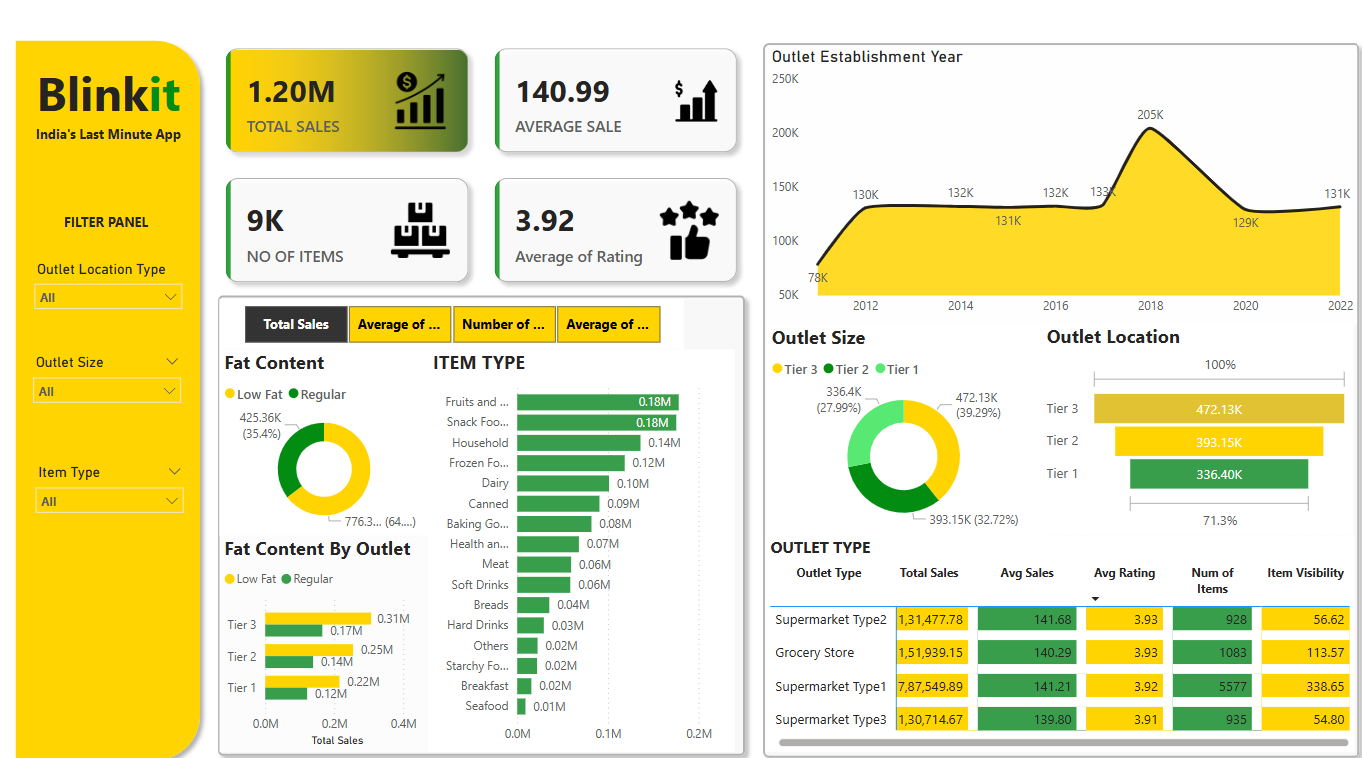

The page's visual inventory and layout, read from the dashboard file:
{"tool":"powerbi","page":{"name":"Page 1","canvas":[1400,800],"ordinal":0},"visuals":[{"type":"shape","box":[13.5,34.5,205.6,750],"z":0},{"type":"textbox","box":[31.5,58.5,171.1,88.6],"z":1000},{"type":"textbox","box":[31.5,124.6,171.1,45],"z":2000},{"type":"cardVisual","fields":{"Data":["BlinkIT Grocery Data.Total Sales","BlinkIT Grocery Data.Average of Sales","BlinkIT Grocery Data.Number of Items","BlinkIT Grocery Data.Average of Rating"]},"box":[220.2,34.6,554.1,272.1],"z":3000},{"type":"shape","box":[220.2,294.4,554.1,486.1],"z":4000},{"type":"donutChart","title":"Fat Content","fields":{"Y":["BlinkIT Grocery Data.Total Sales"],"Category":["BlinkIT Grocery Data.Item Fat Content"]},"box":[230.2,357.4,213.7,189.5],"z":5000},{"type":"slicer","fields":{"Values":["Metrics.Metrics"]},"box":[230.1,306.7,472.5,50.7],"z":6000},{"type":"clusteredBarChart","title":" Fat Content By Outlet","fields":{"Y":["BlinkIT Grocery Data.Total Sales"],"Category":["BlinkIT Grocery Data.Outlet Location Type"],"Series":["BlinkIT Grocery Data.Item Fat Content"]},"box":[230.1,546.7,212.7,220.2],"z":7000},{"type":"barChart","title":"ITEM TYPE","fields":{"Y":["BlinkIT Grocery Data.Total Sales"],"Category":["BlinkIT Grocery Data.Item Type"]},"box":[442.8,357.5,311.7,409.4],"z":8000},{"type":"shape","box":[774.5,36.9,625.7,745.3],"z":9000},{"type":"lineChart","title":"Outlet Establishment Year","fields":{"Y":["BlinkIT Grocery Data.Total Sales"],"Category":["BlinkIT Grocery Data.Outlet Establishment Year"]},"box":[787.2,49.6,601.6,282.3],"z":10000},{"type":"donutChart","title":"Outlet Size","fields":{"Y":["BlinkIT Grocery Data.Total Sales"],"Category":["BlinkIT Grocery Data.Outlet Location Type"]},"box":[787.2,331.9,279.8,214.9],"z":11000},{"type":"funnel","title":"Outlet Location","fields":{"Category":["BlinkIT Grocery Data.Outlet Location Type"],"Y":["Sum(BlinkIT Grocery Data.Sales)"]},"box":[1067,330.7,318,216.2],"z":12000},{"type":"pivotTable","title":"OUTLET TYPE","fields":{"Rows":["BlinkIT Grocery Data.Outlet Type"],"Values":["BlinkIT Grocery Data.Total Sales","BlinkIT Grocery Data.Average of Sales","BlinkIT Grocery Data.Average of Rating","BlinkIT Grocery Data.Number of Items","Sum(BlinkIT Grocery Data.Item Visibility)"]},"box":[786,546.9,599,220],"z":12001},{"type":"slicer","fields":{"Values":["BlinkIT Grocery Data.Outlet Location Type"]},"box":[31.8,262,170.4,68.7],"z":12002},{"type":"slicer","fields":{"Values":["BlinkIT Grocery Data.Outlet Size"]},"box":[30.5,357.4,170.4,68.7],"z":12003},{"type":"slicer","fields":{"Values":["BlinkIT Grocery Data.Item Type"]},"box":[33.1,469.3,170.4,68.7],"z":12004},{"type":"textbox","box":[49.6,213.7,131,31.8],"z":12005}]}

Visuals, with their boxes in screenshot pixels (x1, y1, x2, y2), scaled from the page's 1400x800 canvas onto the 1362x758 screenshot:
shape: detection(13, 33, 213, 743)
textbox: detection(31, 55, 197, 139)
textbox: detection(31, 118, 197, 161)
cardVisual - BlinkIT Grocery Data.Total Sales x BlinkIT Grocery Data.Average of Sales: detection(214, 33, 753, 291)
shape: detection(214, 279, 753, 740)
"Fat Content" donutChart: detection(224, 339, 432, 518)
slicer - Metrics.Metrics: detection(224, 291, 684, 339)
" Fat Content By Outlet" clusteredBarChart: detection(224, 518, 431, 727)
"ITEM TYPE" barChart: detection(431, 339, 734, 727)
shape: detection(753, 35, 1361, 741)
"Outlet Establishment Year" lineChart: detection(766, 47, 1351, 314)
"Outlet Size" donutChart: detection(766, 314, 1038, 518)
"Outlet Location" funnel: detection(1038, 313, 1347, 518)
"OUTLET TYPE" pivotTable: detection(765, 518, 1347, 727)
slicer - BlinkIT Grocery Data.Outlet Location Type: detection(31, 248, 197, 313)
slicer - BlinkIT Grocery Data.Outlet Size: detection(30, 339, 195, 404)
slicer - BlinkIT Grocery Data.Item Type: detection(32, 445, 198, 510)
textbox: detection(48, 202, 176, 233)
